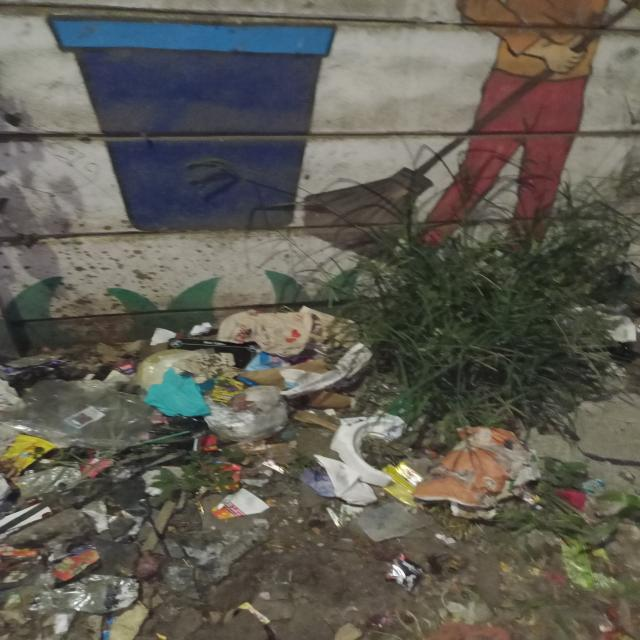garbage: (4, 312, 356, 634), (359, 406, 640, 637)
